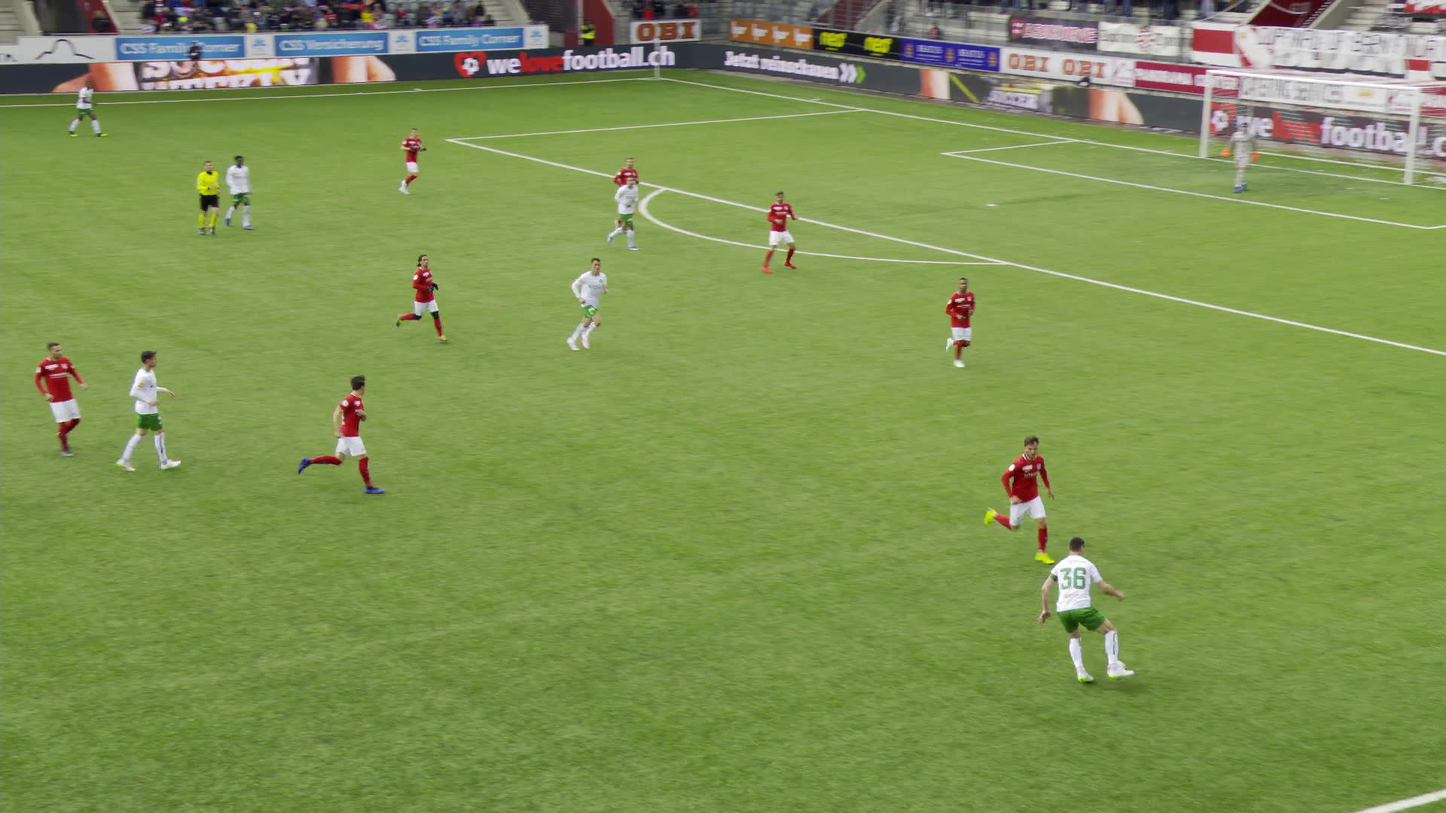ball: (1101, 658, 1114, 673)
player: (1033, 538, 1131, 685), (990, 432, 1063, 556), (306, 373, 376, 492), (35, 343, 87, 457), (124, 352, 172, 472), (565, 257, 612, 352), (401, 253, 443, 340), (944, 276, 981, 366), (765, 190, 802, 273), (606, 156, 645, 227), (1228, 121, 1267, 192), (228, 154, 260, 230), (400, 126, 433, 193), (617, 175, 644, 249), (78, 81, 108, 137)
referee: (199, 162, 227, 237)
